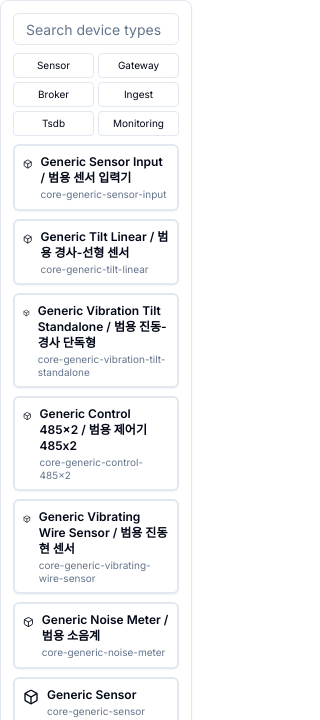
Scenario: NodePalette › filters by search text for daejak manifests
Type "daejak" into the field with placeholder "Search device types" at x=96, y=29, box [13,13,179,45]
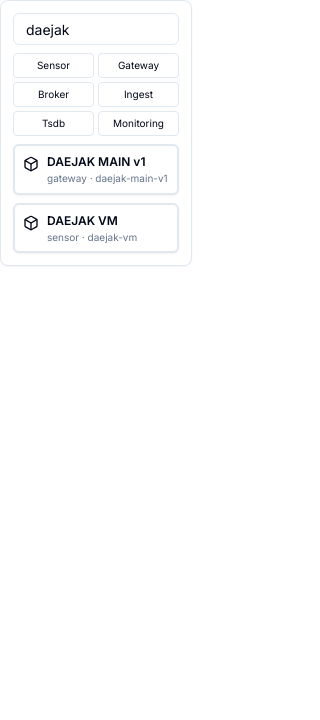
Expected: the button labelled "DAEJAK VM sensor · daejak-vm" is shown, [13,202,179,253]
Expected: the button labelled "DAEJAK MAIN v1 gateway · daejak-main-v1" is shown, [13,144,179,194]
